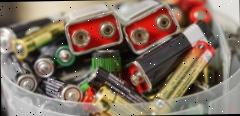electronic: (114, 17, 226, 93), (140, 30, 231, 116), (84, 64, 155, 116), (10, 16, 72, 72), (58, 8, 123, 54), (84, 86, 140, 116), (37, 76, 85, 108), (186, 6, 225, 28), (52, 44, 80, 68)
